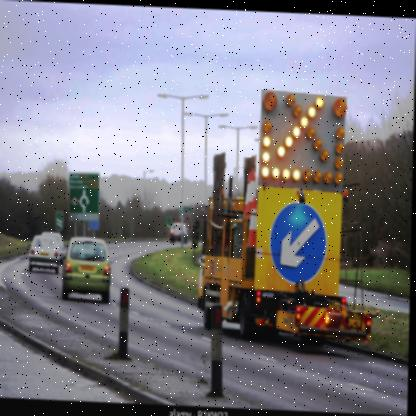Keep left: (268, 196, 328, 284)
